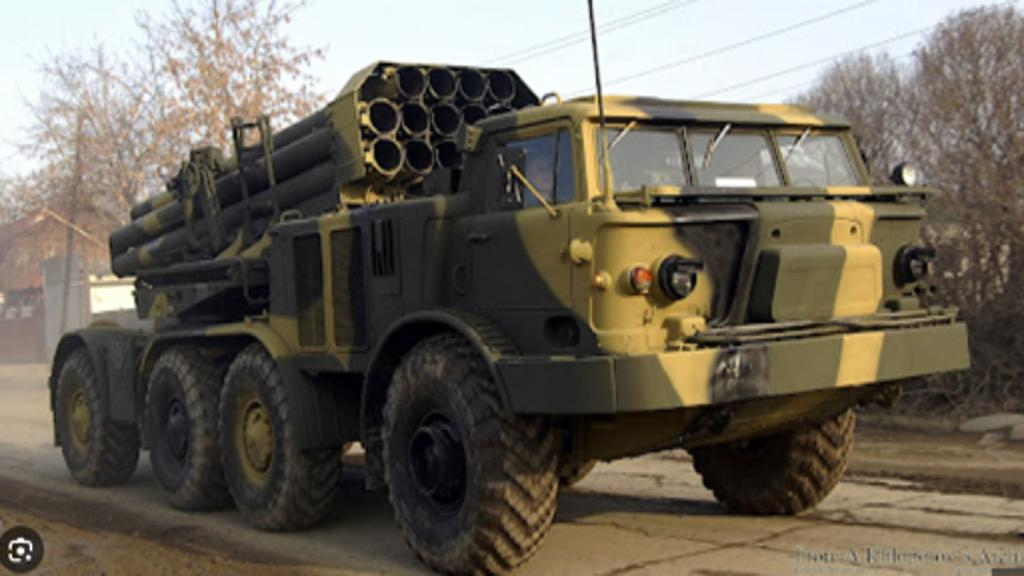MLRS: (44, 58, 970, 576)
